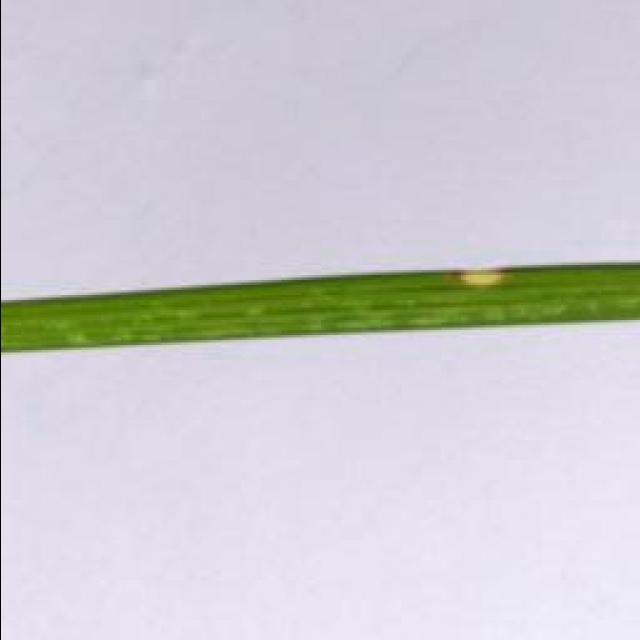Unhealthy: (447, 270, 509, 293)
